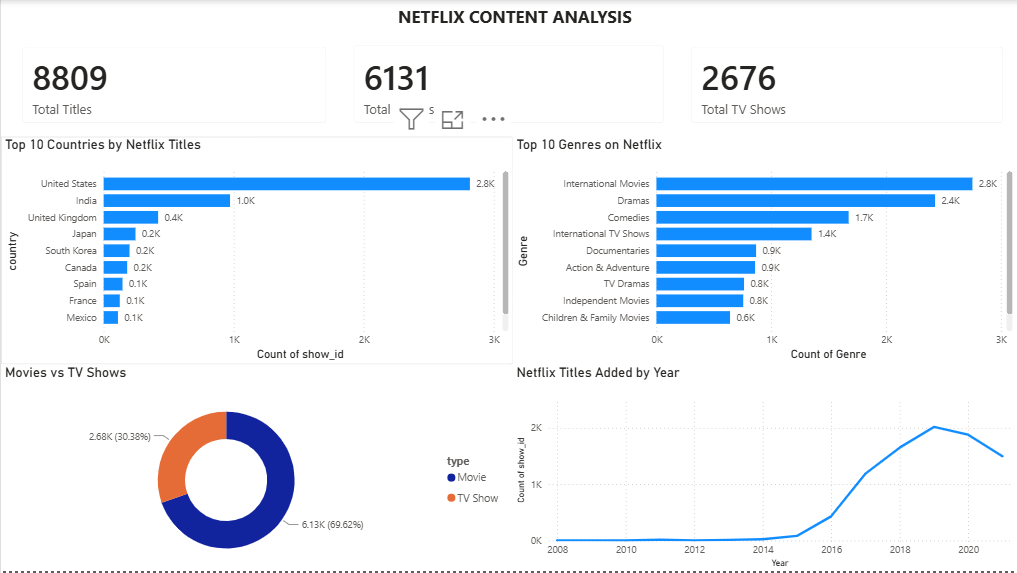

The page's visual inventory and layout, read from the dashboard file:
{"tool":"powerbi","page":{"name":"Netflix Content Analysis","canvas":[1280,720],"ordinal":0},"visuals":[{"type":"textbox","box":[9.4,0,1269.9,41.6],"z":0},{"type":"cardVisual","fields":{"Data":["CountNonNull(Cleaned_Netflix_Data.show_id)"]},"box":[9.4,41.6,417.6,130.4],"z":1000},{"type":"cardVisual","fields":{"Data":["Cleaned_Netflix_Data.Total Movies"]},"box":[427.1,39.7,425.2,132.3],"z":2000},{"type":"cardVisual","fields":{"Data":["Cleaned_Netflix_Data.Total TV Shows"]},"box":[852.3,41.6,427.1,130.4],"z":3000},{"type":"clusteredBarChart","title":"Top 10 Countries by Netflix Titles","fields":{"Category":["Cleaned_Netflix_Data.country"],"Y":["CountNonNull(Cleaned_Netflix_Data.show_id)"]},"box":[0,172,644.4,287.2],"z":4000},{"type":"clusteredBarChart","title":"Top 10 Genres on Netflix","fields":{"Category":["Cleaned_Genres.Genre"],"Y":["CountNonNull(Cleaned_Genres.Genre)"]},"box":[644.4,172,635,287.2],"z":5001},{"type":"donutChart","title":"Movies vs TV Shows","fields":{"Category":["Cleaned_Netflix_Data.type"],"Y":["CountNonNull(Cleaned_Netflix_Data.show_id)"]},"box":[0,459.2,640.6,260.8],"z":5002},{"type":"lineChart","title":"Netflix Titles Added by Year","fields":{"Category":["Cleaned_Netflix_Data.date_added.Variation.Date Hierarchy.Year"],"Y":["CountNonNull(Cleaned_Netflix_Data.show_id)"]},"box":[644.4,459.2,635,260.8],"z":5003}]}

Visuals, with their boxes in screenshot pixels (x1, y1, x2, y2), scaled from the page's 1280x720 canvas onto the 1017x573 screenshot:
textbox: crop(7, 0, 1016, 33)
cardVisual - CountNonNull(Cleaned_Netflix_Data.show_id): crop(7, 33, 339, 137)
cardVisual - Cleaned_Netflix_Data.Total Movies: crop(339, 32, 677, 137)
cardVisual - Cleaned_Netflix_Data.Total TV Shows: crop(677, 33, 1016, 137)
"Top 10 Countries by Netflix Titles" clusteredBarChart: crop(0, 137, 512, 365)
"Top 10 Genres on Netflix" clusteredBarChart: crop(512, 137, 1016, 365)
"Movies vs TV Shows" donutChart: crop(0, 365, 509, 572)
"Netflix Titles Added by Year" lineChart: crop(512, 365, 1016, 572)
